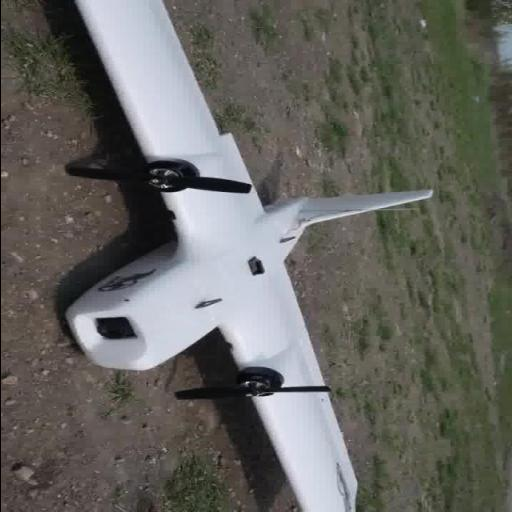uav: (55, 0, 438, 511)
